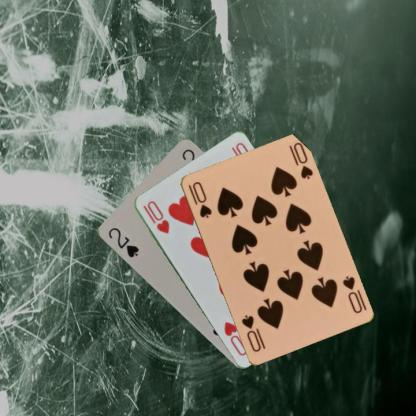10h: (140, 198, 170, 235)
10s: (185, 178, 213, 220), (339, 273, 364, 315)
2s: (105, 225, 140, 259)
